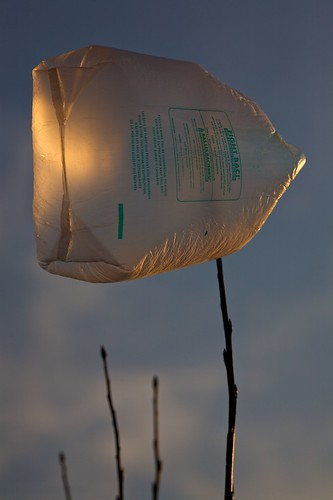kantong: (26, 41, 318, 291)
